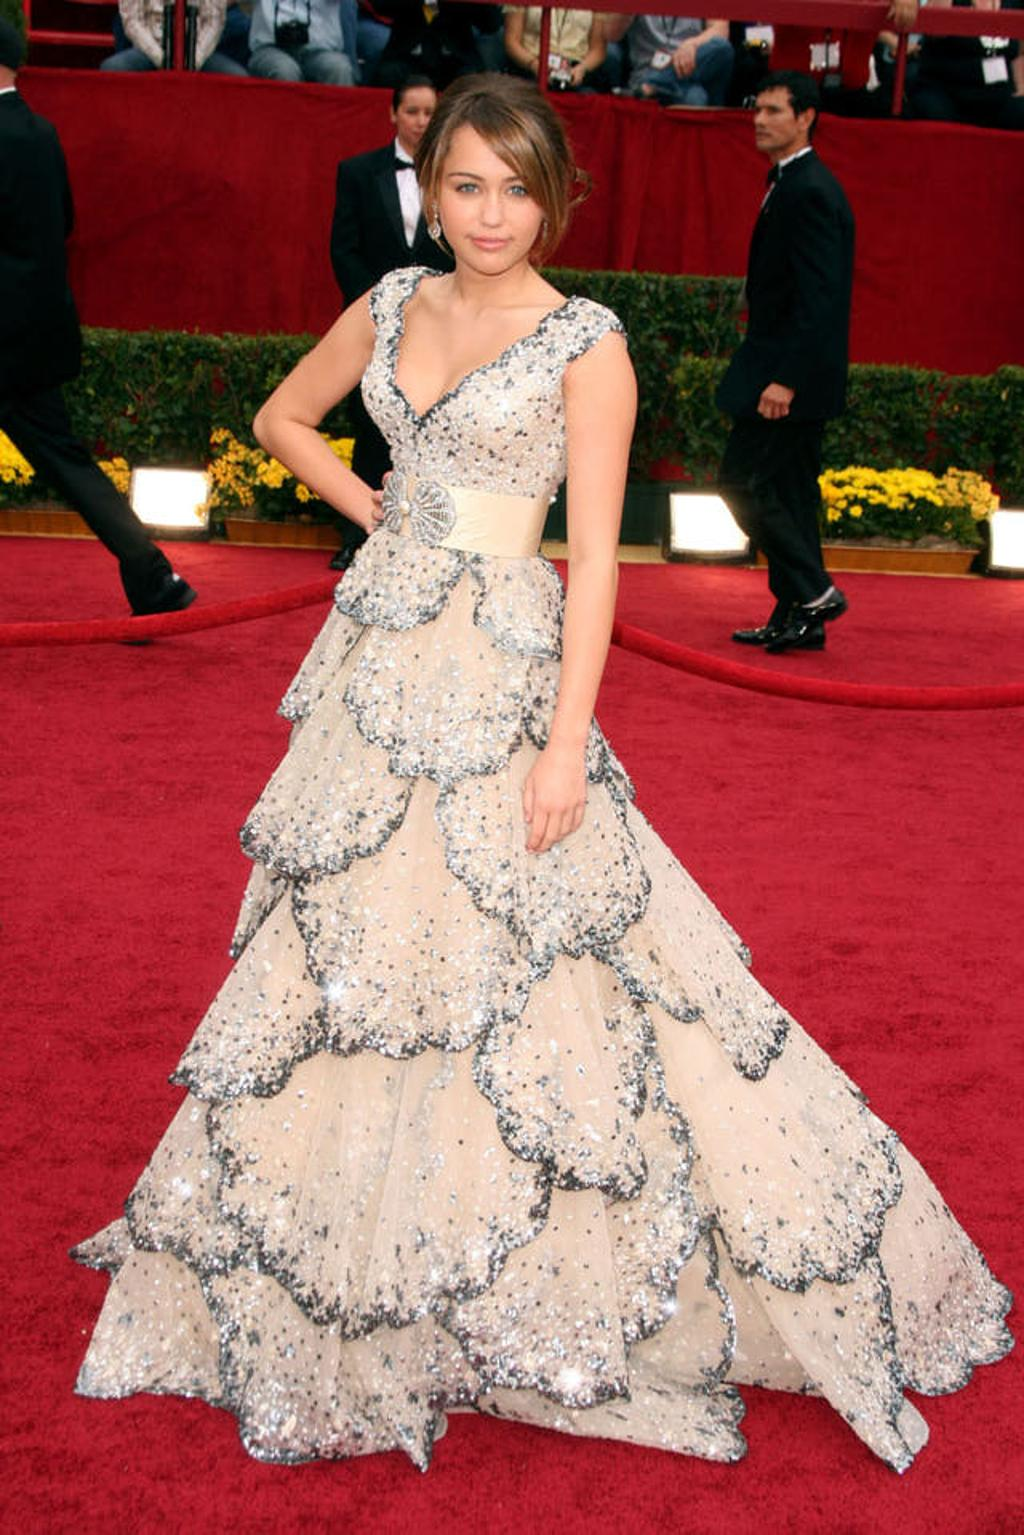face: (441, 136, 544, 275), (756, 93, 799, 149), (399, 95, 439, 143)
